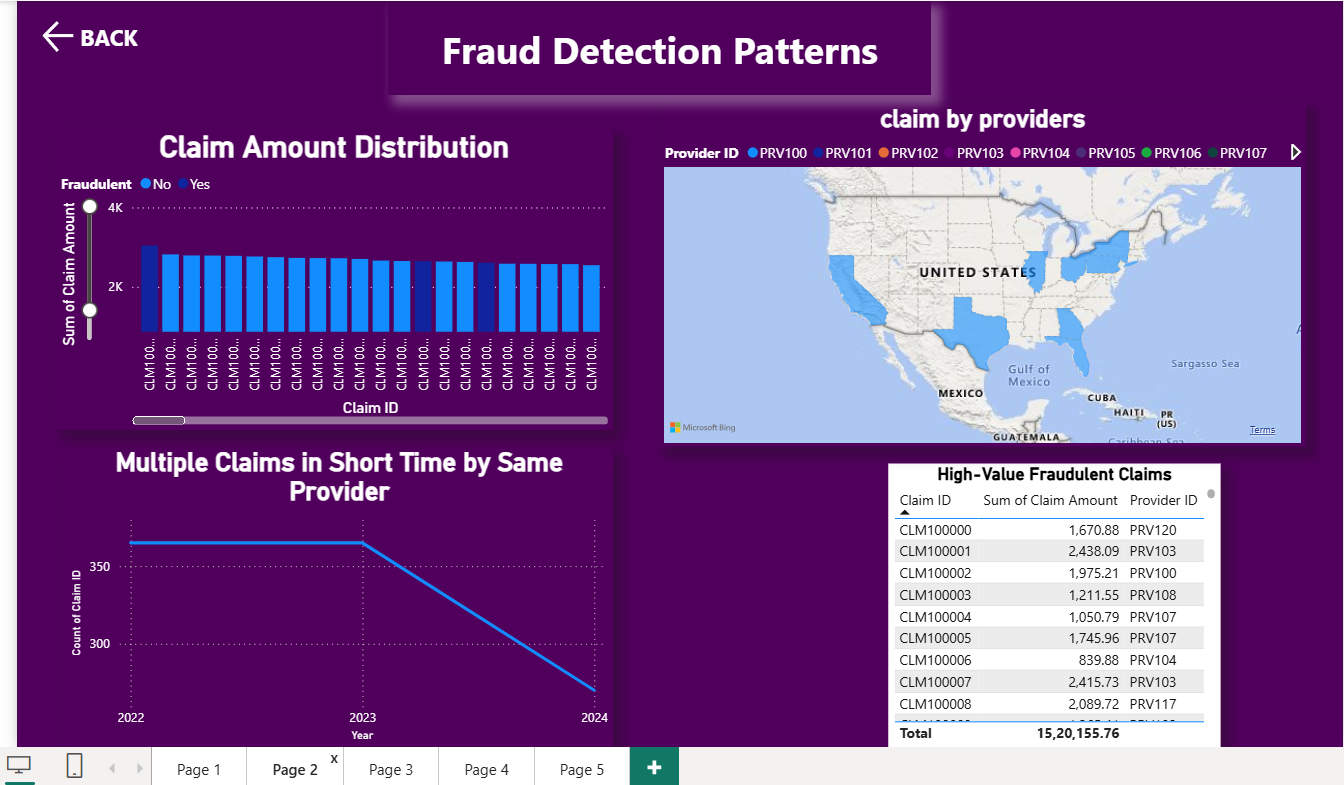

Layout of this report page (visuals, bound fields, positions):
{"tool":"powerbi","page":{"name":"Page 2","canvas":[1280,720],"ordinal":1},"visuals":[{"type":"columnChart","title":"Claim Amount Distribution ","fields":{"Y":["Sum(Healthcare_Claims_Fraud_Dataset.Claim Amount)"],"Category":["Healthcare_Claims_Fraud_Dataset.Claim ID"],"Series":["Healthcare_Claims_Fraud_Dataset.Fraudulent"]},"box":[37,123.5,537.9,290.9],"z":0},{"type":"lineChart","title":"Multiple Claims in Short Time by Same Provider","fields":{"Y":["CountNonNull(Healthcare_Claims_Fraud_Dataset.Claim ID)"],"Category":["Healthcare_Claims_Fraud_Dataset.Claim Date.Variation.Date Hierarchy.Year"]},"box":[46.7,430.9,528.3,289.5],"z":1000},{"type":"tableEx","title":"High-Value Fraudulent Claims","fields":{"Values":["Healthcare_Claims_Fraud_Dataset.Claim ID","Sum(Healthcare_Claims_Fraud_Dataset.Claim Amount)","Healthcare_Claims_Fraud_Dataset.Provider ID"]},"box":[841.2,446,321.1,274.4],"z":2000},{"type":"filledMap","title":"claim by providers","fields":{"Category":["Healthcare_Claims_Fraud_Dataset.State"],"Series":["Healthcare_Claims_Fraud_Dataset.Provider ID"]},"box":[620.2,98.8,624.4,332.1],"z":3000},{"type":"shape","box":[358.1,0,524.2,90.6],"z":4000},{"type":"actionButton","box":[20.5,14.5,100.1,39.8],"z":5000}]}

Visuals, with their boxes on the page's 1280x720 design canvas (x1, y1, x2, y2). These are canvas units, not pixel positions in the 1344x785 screenshot, which may show the page scaled, cropped or inside an application window:
"Claim Amount Distribution " columnChart: [x1=37, y1=124, x2=575, y2=414]
"Multiple Claims in Short Time by Same Provider" lineChart: [x1=47, y1=431, x2=575, y2=720]
"High-Value Fraudulent Claims" tableEx: [x1=841, y1=446, x2=1162, y2=720]
"claim by providers" filledMap: [x1=620, y1=99, x2=1245, y2=431]
shape: [x1=358, y1=0, x2=882, y2=91]
actionButton: [x1=20, y1=14, x2=121, y2=54]
